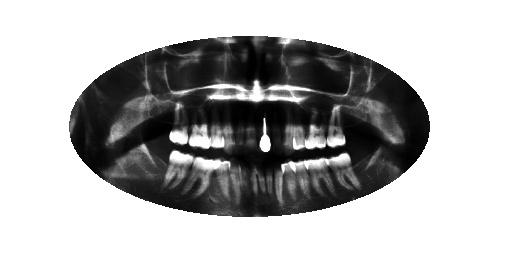i10decay: (238, 156, 257, 203)
i11decay: (224, 156, 242, 204)
i12healthy: (210, 152, 234, 206)
i13healthy: (180, 150, 217, 204)
i14healthy: (161, 146, 196, 197)
i3healthy: (324, 145, 360, 196)
i4healthy: (304, 152, 334, 202)
i5healthy: (290, 151, 312, 203)
i6healthy: (281, 149, 302, 203)
i7chipped: (270, 156, 285, 207)
i8chipped: (260, 150, 276, 203)
i9chipped: (251, 158, 267, 202)
u10healthy: (220, 105, 235, 158)
u11healthy: (209, 101, 229, 153)
u12healthy: (180, 99, 212, 155)
u13healthy: (164, 93, 191, 148)
u3decay: (323, 94, 347, 153)
u4healthy: (302, 97, 327, 156)
u5healthy: (280, 99, 311, 155)
u6loss: (266, 99, 289, 150)
u7healthy: (254, 104, 276, 156)
u8healthy: (240, 103, 260, 159)
u9decay: (230, 99, 248, 158)
